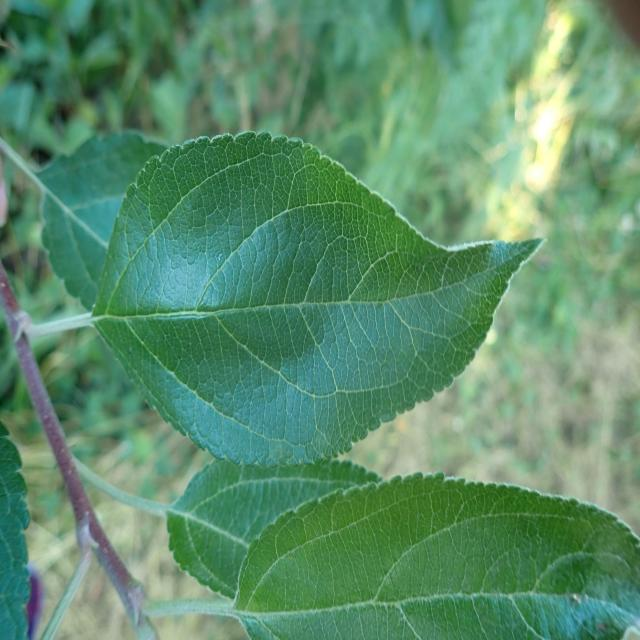healthy: (91, 130, 548, 468), (233, 470, 640, 640), (166, 455, 384, 601), (37, 130, 172, 313), (0, 420, 32, 640)
